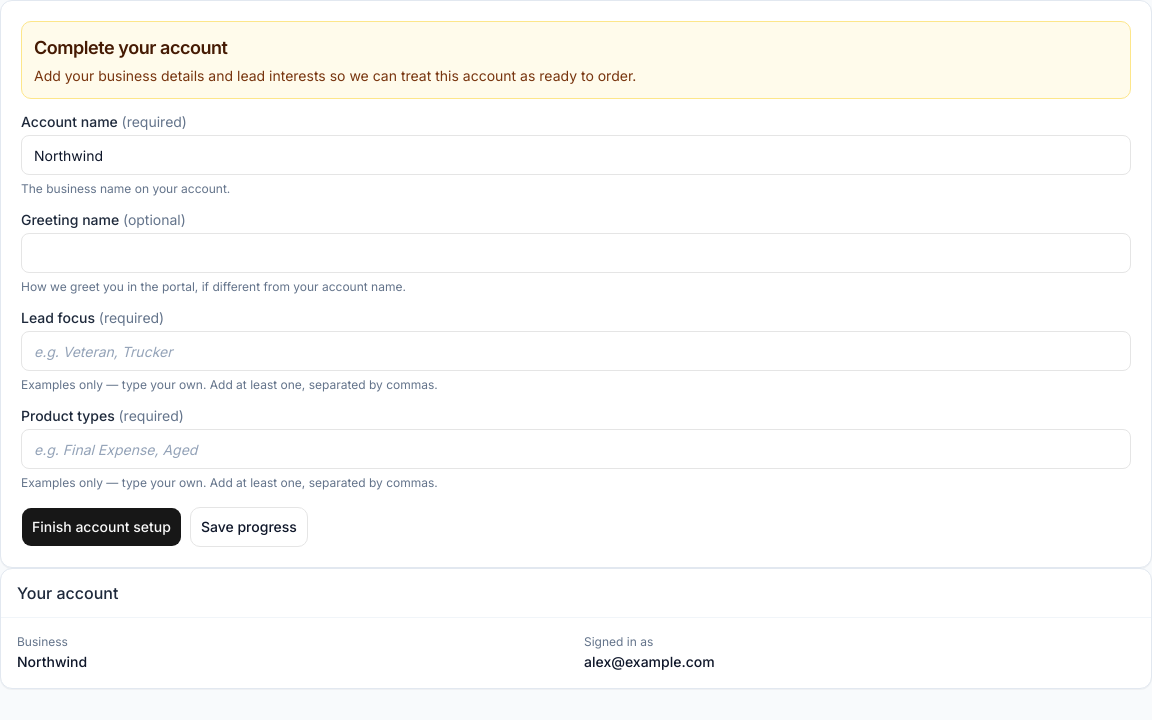
it: successful finish renders completion, profile details, and a place-order CTA
In the field labelled "Lead focus (required)": (576,351) x1=21 y1=331 x2=1131 y2=371, type "Veteran"
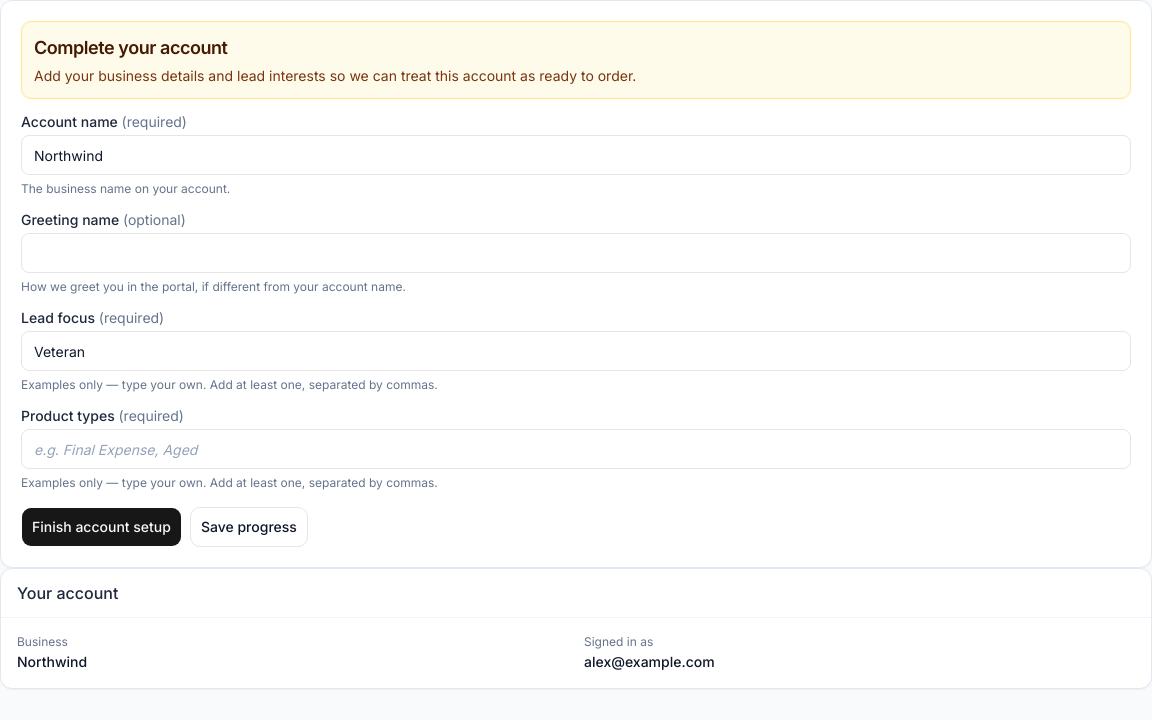
In the field labelled "Product types (required)": (576,449) x1=21 y1=429 x2=1131 y2=469, type "Aged"
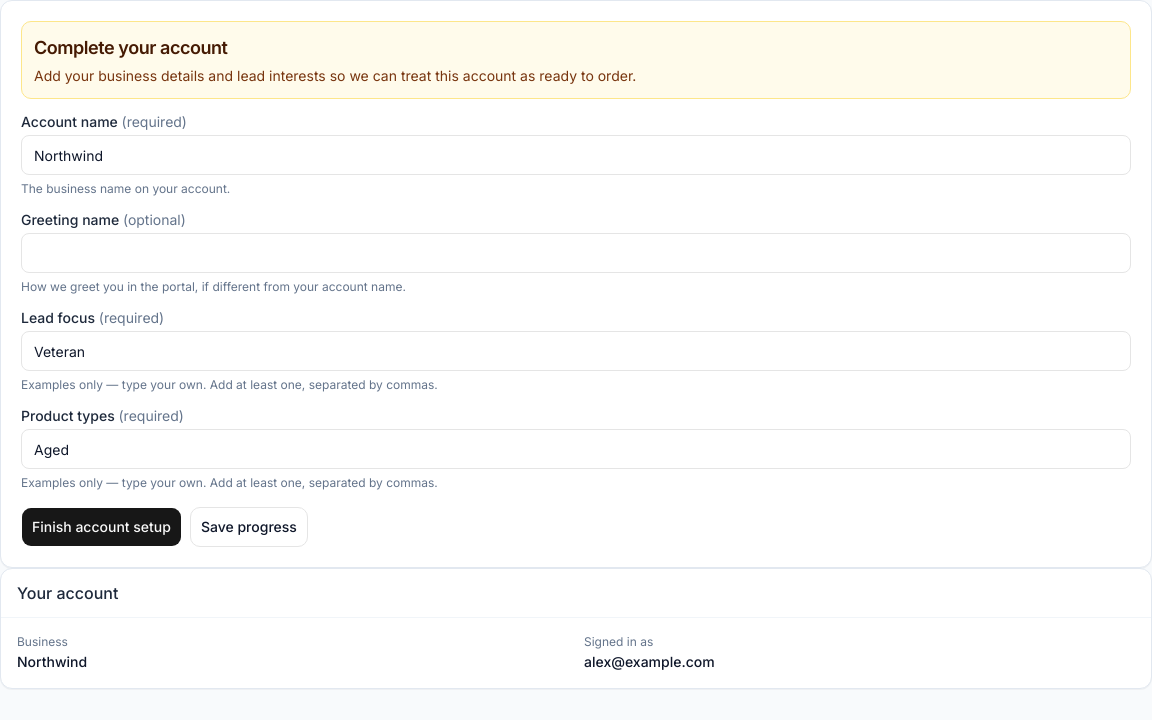
Click the button "Finish account setup": (101,527) x1=21 y1=507 x2=182 y2=547
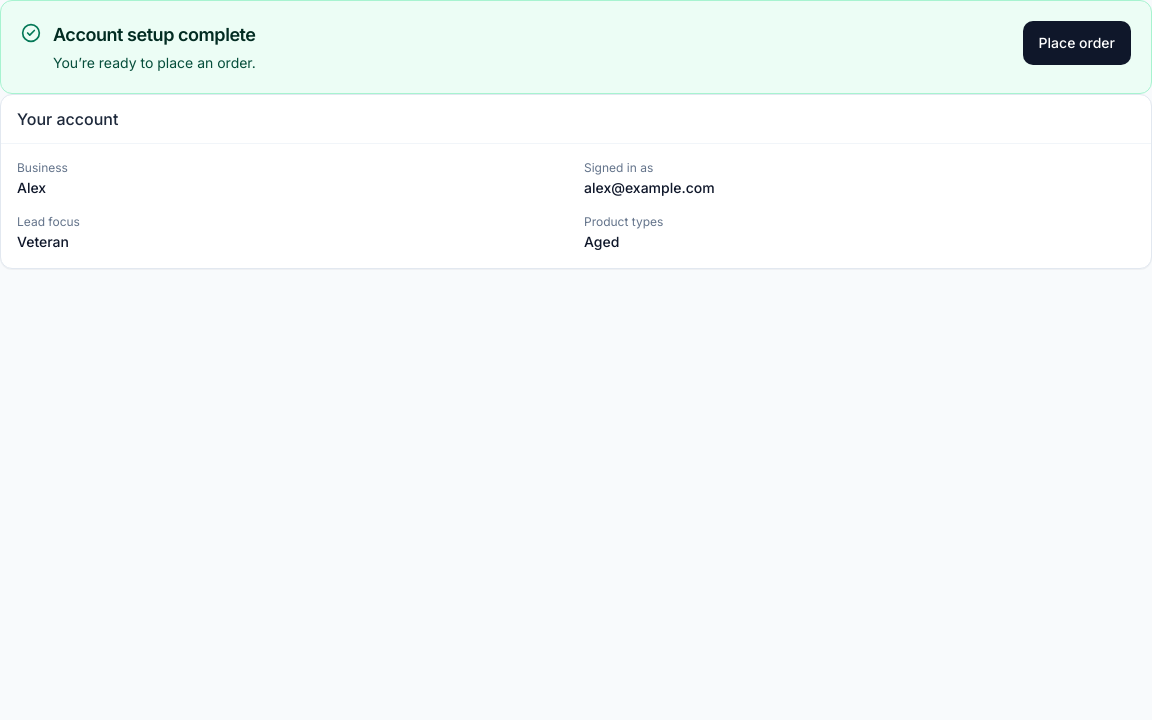
Now the heading "Account setup complete" is shown, box x1=53 y1=21 x2=256 y2=49
Now the text "Alex" is shown, box x1=17 y1=179 x2=46 y2=196
Now the text "Veteran" is shown, box x1=17 y1=233 x2=69 y2=250
